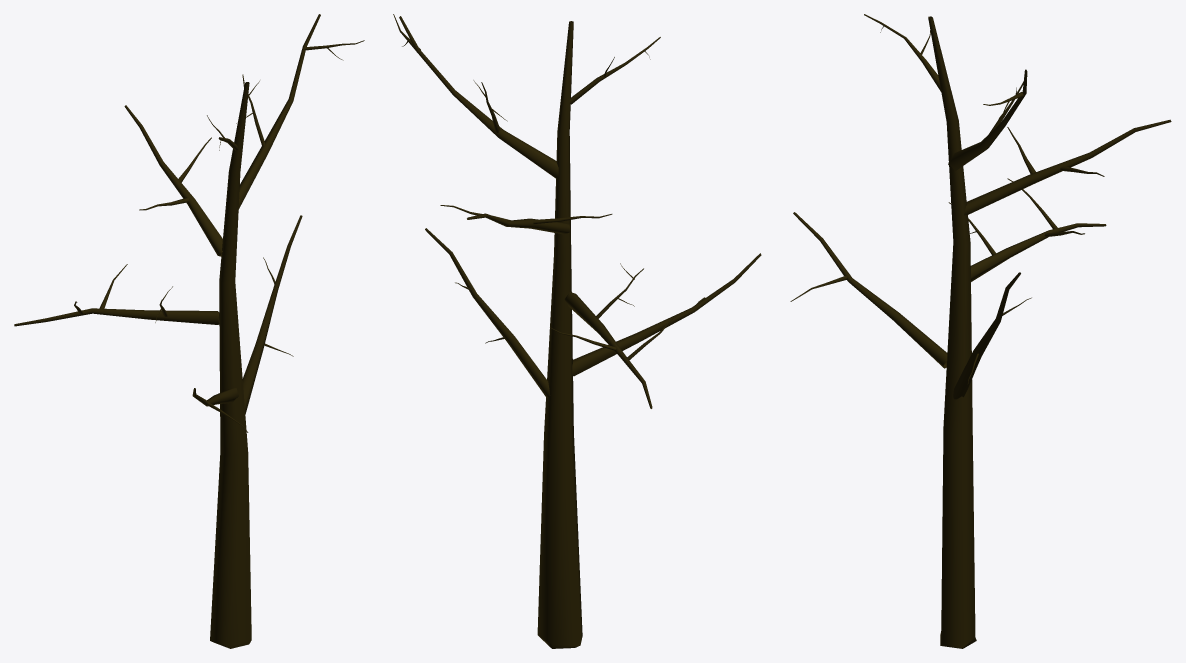
The model's file is Tree2.fbx.
The picture shows the model from 3 angles, left to right: view 1: azimuth 30°, elevation 25°; view 2: azimuth 150°, elevation 25°; view 3: azimuth 270°, elevation 25°; orthographic projection. The views are drawn at different scales.
Visible parts, largest first — view 1: Tree_base, Tree_branch5, Tree_branch21, Tree_branch7, Tree_branch1; view 2: Tree_base, Tree_branch7, Tree_branch11, Tree_branch21, Tree_branch5, Tree_branch1; view 3: Tree_base, Tree_branch1, Tree_branch11, Tree_branch5, Tree_branch21, Tree_branch7.
Boxes of the visible parts, left/top/right/bottom form: Tree_base: left=210, top=82, right=251, bottom=648; Tree_branch5: left=14, top=308, right=219, bottom=326; Tree_branch21: left=242, top=215, right=302, bottom=414; Tree_branch7: left=237, top=14, right=320, bottom=210; Tree_branch1: left=124, top=105, right=222, bottom=256; Tree_base: left=537, top=21, right=582, bottom=648; Tree_branch7: left=399, top=16, right=558, bottom=178; Tree_branch11: left=572, top=253, right=761, bottom=376; Tree_branch21: left=425, top=228, right=550, bottom=398; Tree_branch5: left=564, top=292, right=652, bottom=408; Tree_branch1: left=467, top=213, right=570, bottom=234; Tree_base: left=928, top=16, right=976, bottom=648; Tree_branch1: left=964, top=119, right=1171, bottom=215; Tree_branch11: left=793, top=212, right=947, bottom=368; Tree_branch5: left=971, top=223, right=1106, bottom=281; Tree_branch21: left=953, top=272, right=1020, bottom=399; Tree_branch7: left=948, top=69, right=1027, bottom=170.
Bounding box in the file's own units: 8.69 × 16.16 × 8.79.
